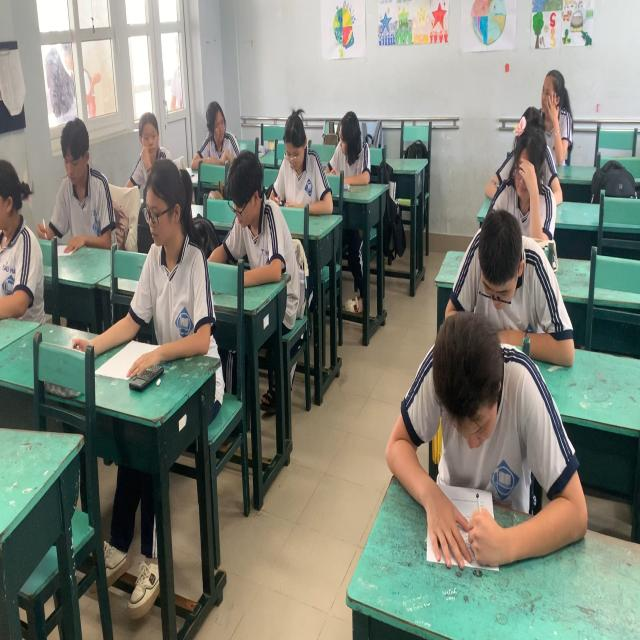cheating: (328, 96, 373, 196), (194, 99, 244, 172)
not_cheating: (417, 305, 537, 519), (141, 152, 209, 363), (456, 200, 544, 329), (217, 137, 284, 280), (49, 115, 109, 262), (501, 120, 563, 223), (280, 97, 322, 227), (536, 67, 575, 159), (133, 96, 169, 178)
